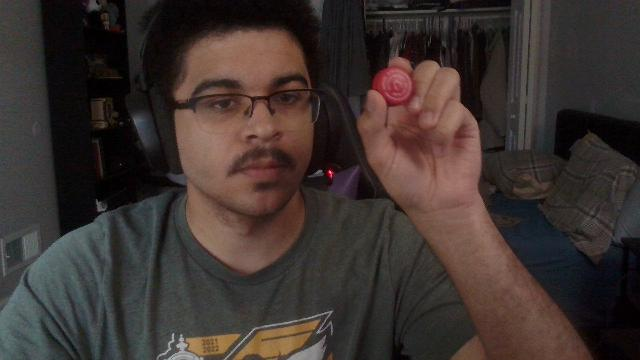cap: (372, 67, 413, 107)
